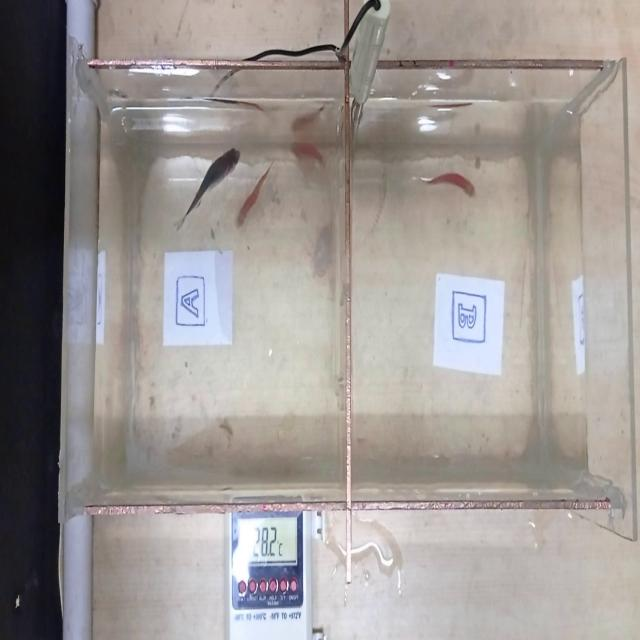Fish A1: (172, 140, 243, 235)
Fish A2: (234, 167, 276, 235)
Fish A3: (283, 133, 334, 188)
Fish B: (421, 156, 481, 217)
